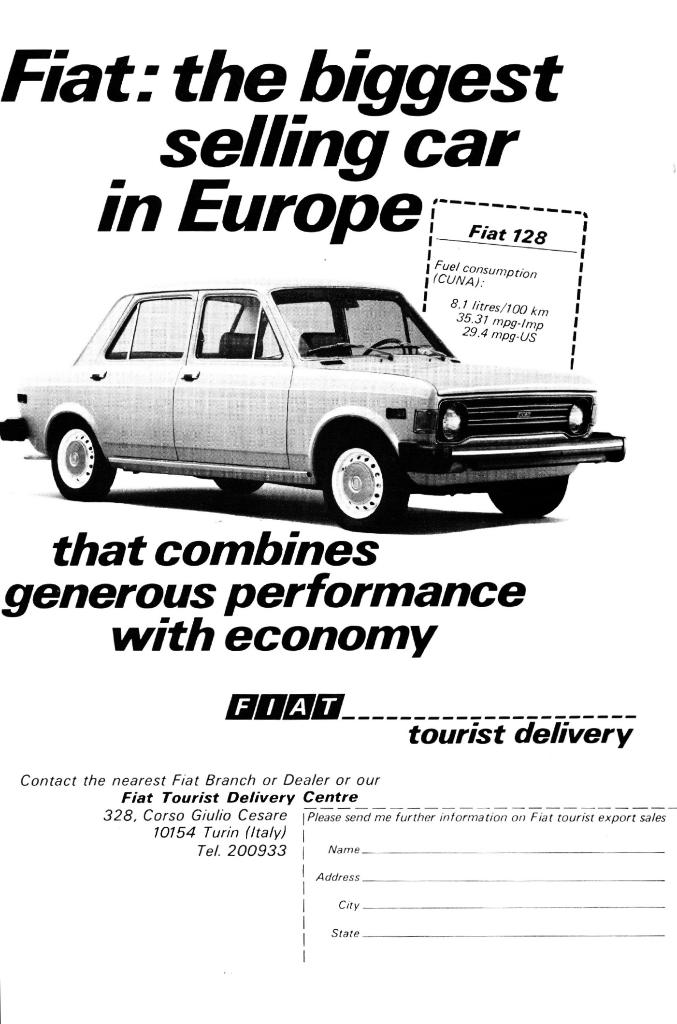Car: (25, 261, 604, 528)
